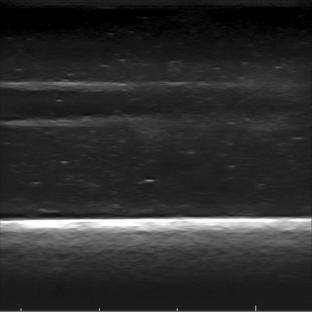vessel: (0, 79, 138, 130)
